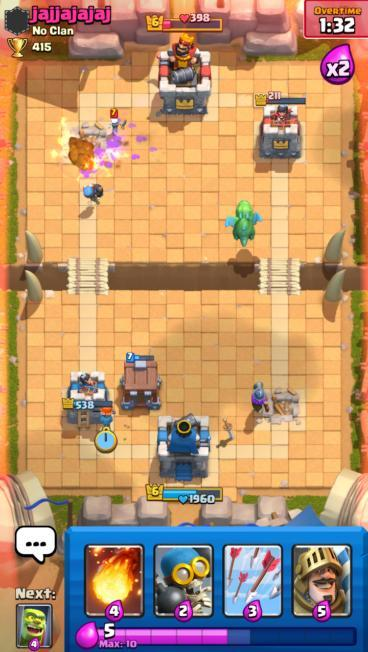EKingTower: (158, 34, 210, 115)
ELarry: (110, 108, 121, 133)
EnemyPrincessTower: (259, 97, 305, 160)
OBabyDrag: (225, 200, 261, 246)
OBomber: (83, 183, 103, 204)
OGoblinCage: (120, 352, 160, 409)
OMusk: (251, 382, 268, 414)
OValk: (99, 405, 113, 428)
OwnKingTower: (157, 415, 210, 481)
OwnPrincessTower: (67, 371, 107, 426)
TowerDown: (254, 388, 306, 432), (62, 127, 106, 166)
